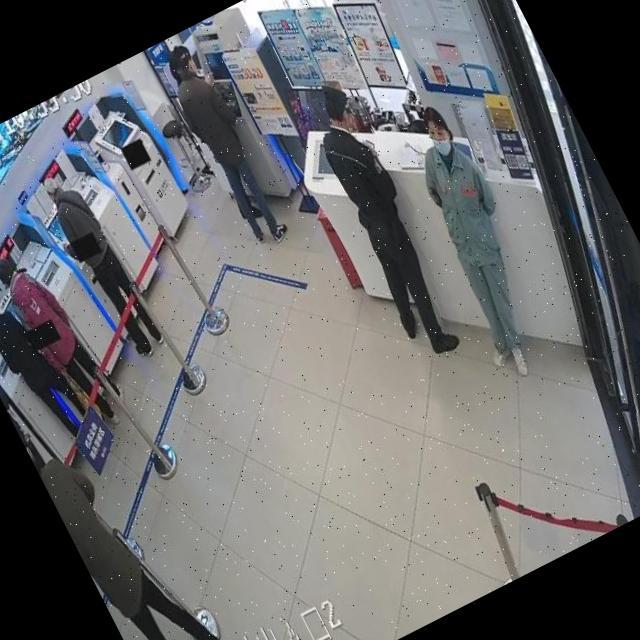person: (19, 391, 244, 640), (380, 99, 574, 383), (290, 78, 476, 366), (154, 35, 300, 256), (0, 234, 133, 443), (36, 162, 170, 366), (0, 269, 95, 451), (0, 341, 53, 481)
